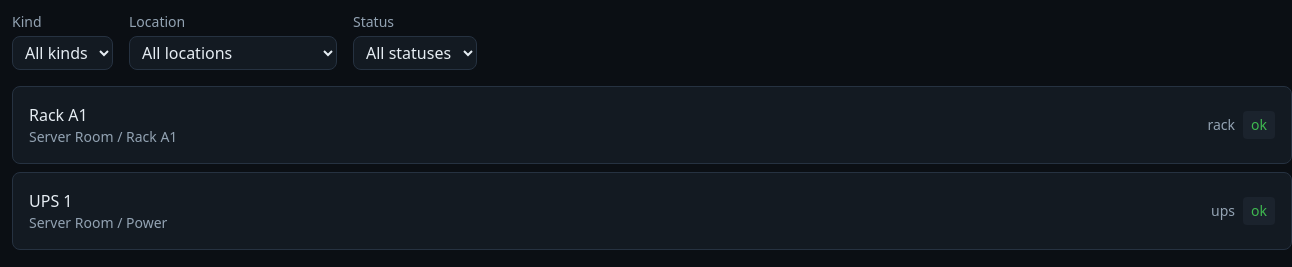
Test: DevicesPage filters › filters by kind
This screenshot has width=1292, height=267.
Expected: the text "Rack A1" is shown, [29, 104, 88, 126]
Select "ups" in the dropdown labelled "Kind" at (62, 53), box [12, 36, 113, 70]
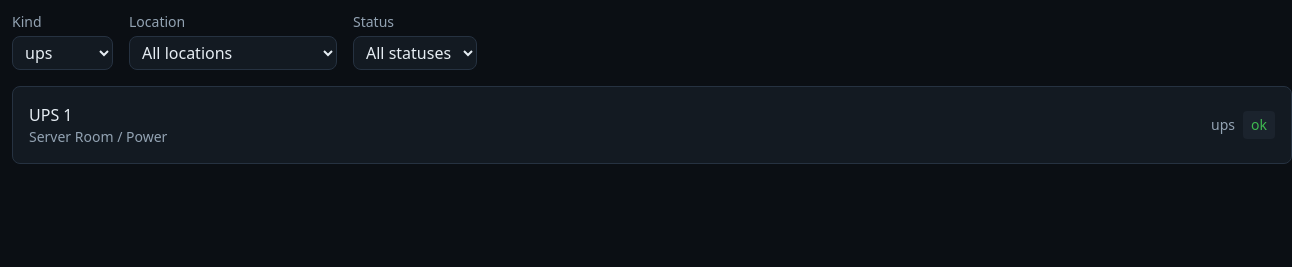
Expected: the text "UPS 1" is shown, [29, 104, 72, 126]
Expected: the link "Rack A1" is gone
